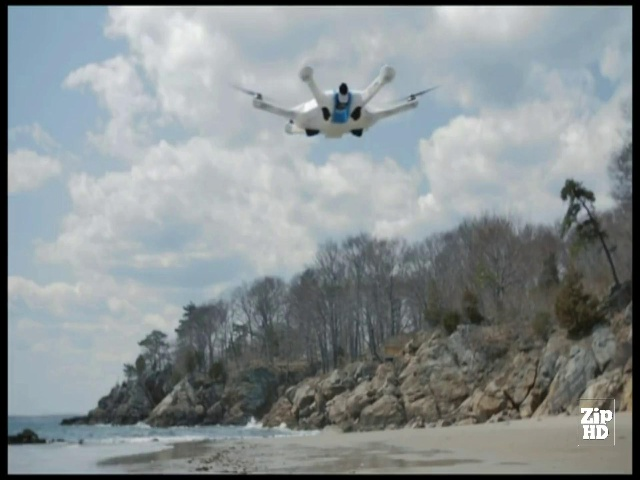drone: (231, 57, 432, 142)
